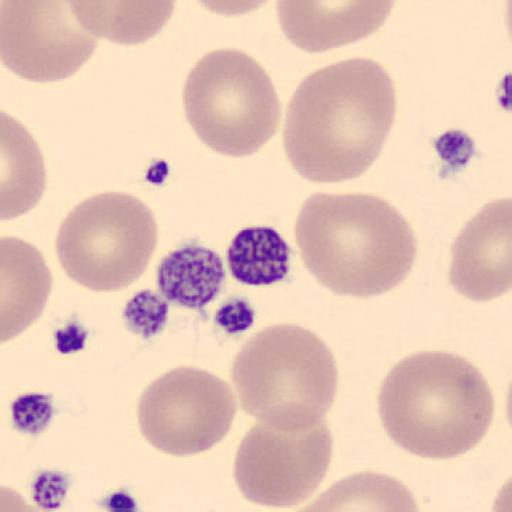Platelet: (154, 237, 228, 310), (221, 222, 297, 290), (118, 285, 174, 341), (428, 124, 482, 178)
RBC: (282, 54, 396, 187), (292, 191, 419, 300), (376, 347, 497, 461), (229, 322, 340, 430), (180, 46, 281, 160), (54, 188, 158, 294), (232, 404, 334, 510), (135, 364, 239, 458), (1, 0, 101, 85), (448, 195, 512, 304), (274, 0, 396, 55), (288, 468, 422, 512), (2, 234, 53, 346), (65, 0, 178, 47), (2, 109, 48, 222), (187, 0, 281, 20), (0, 465, 37, 512), (0, 476, 47, 512), (489, 472, 512, 512), (503, 0, 511, 56)
